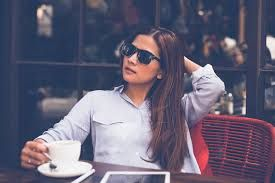no-mask: (115, 26, 186, 86)
